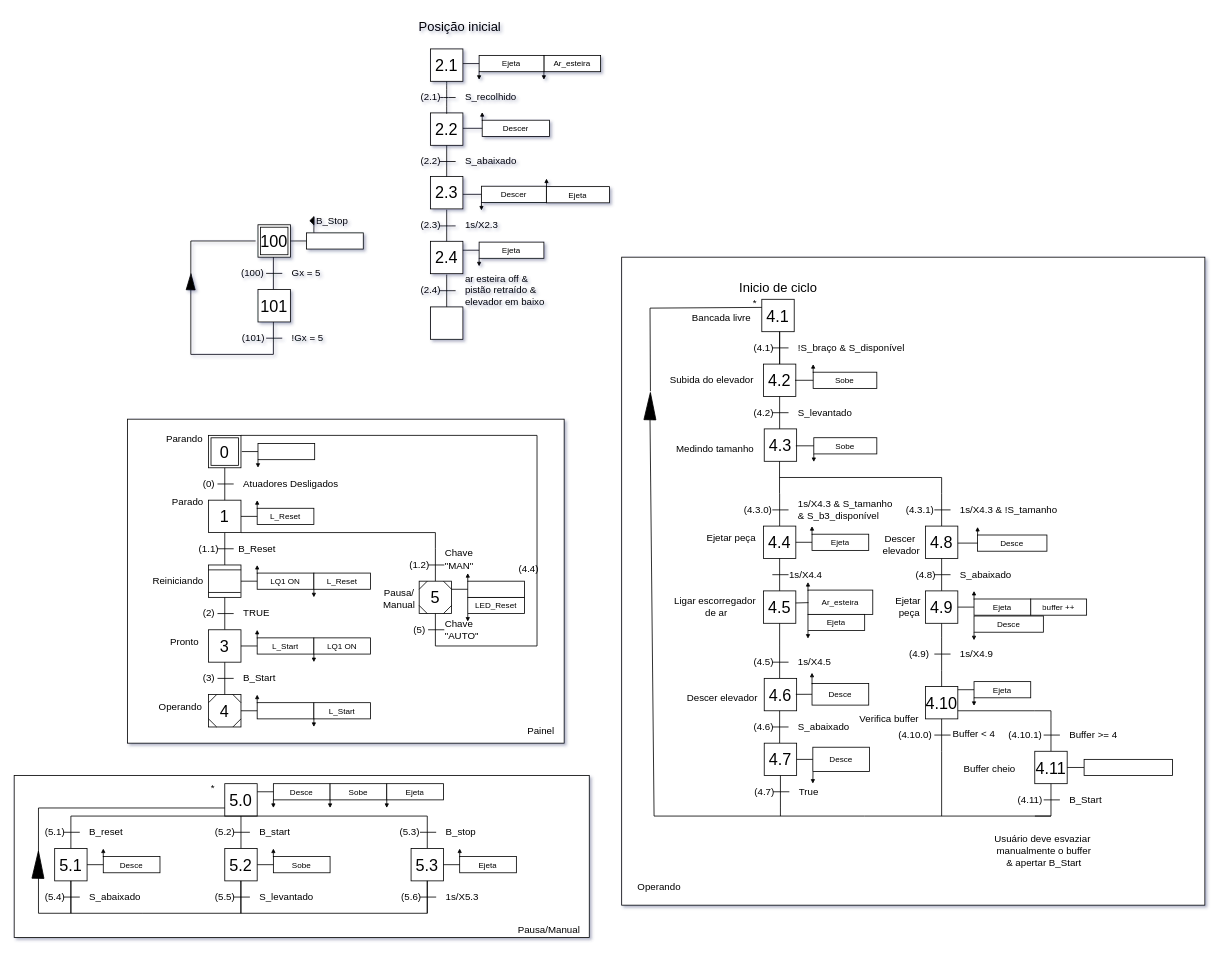
Image size: 1224x961. Some labels were removed from this diagram. The centre of each missing label's shape, as x and y in pixels:
Alerta de buffer cheio: the point at 1127,767
G1{0}: the point at 334,240
LQ1 2Hz: the point at 495,588
LQ2 ON: the point at 285,710
M2: the point at 224,580
R_Atuadores: the point at 286,451
S2: the point at 446,322
